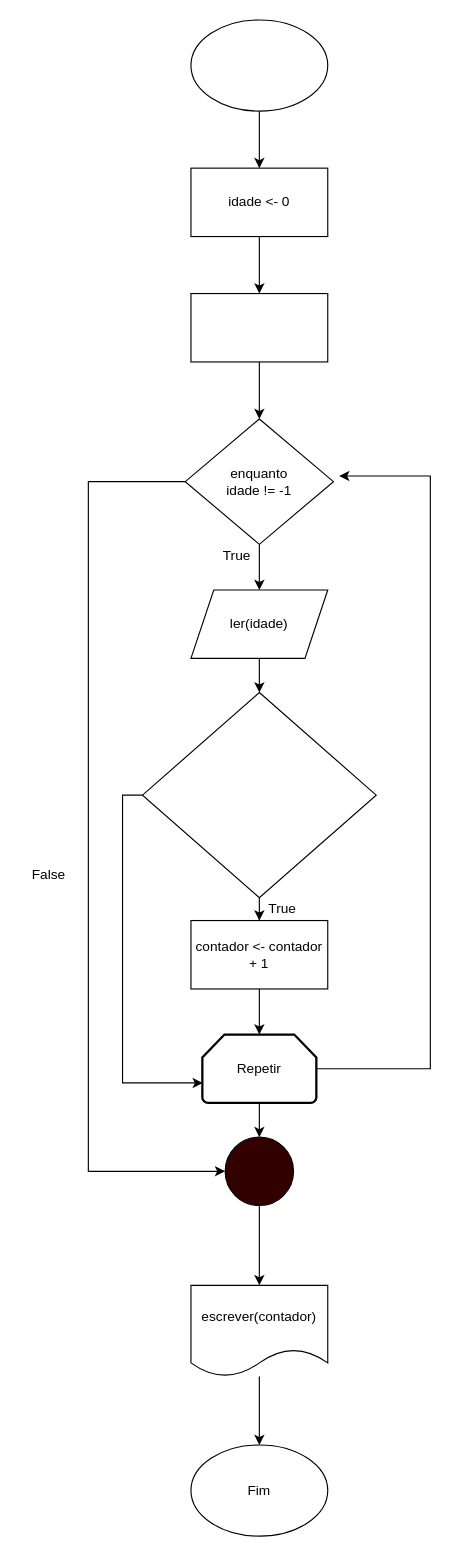
Some shapes in this 459 by 1556 pixel diagram are drawn without their labels. Here are the shapes that lost their labels. From the top down, the centre of each, then its label:
(259,65): Inicio
(259,327): contador <- 0
(258,794): se (idade >= 15 && idade < 48)
